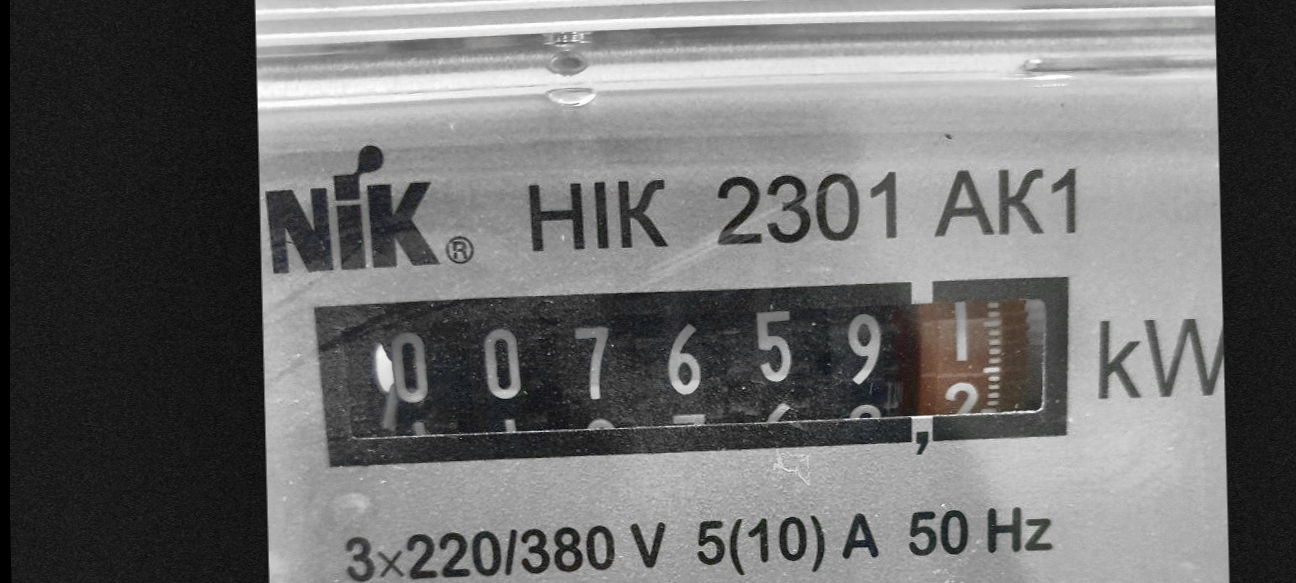0: (470, 321, 528, 408), (382, 324, 435, 415)
1: (944, 296, 980, 372)
5: (748, 306, 796, 389)
6: (655, 317, 708, 402)
7: (568, 322, 613, 408)
9: (841, 307, 885, 396)
screen: (293, 257, 1092, 490)
